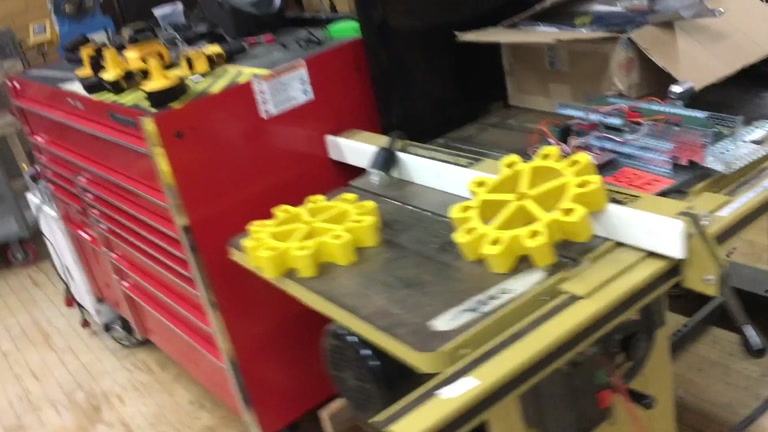gear: (447, 143, 605, 276), (240, 190, 381, 281)
